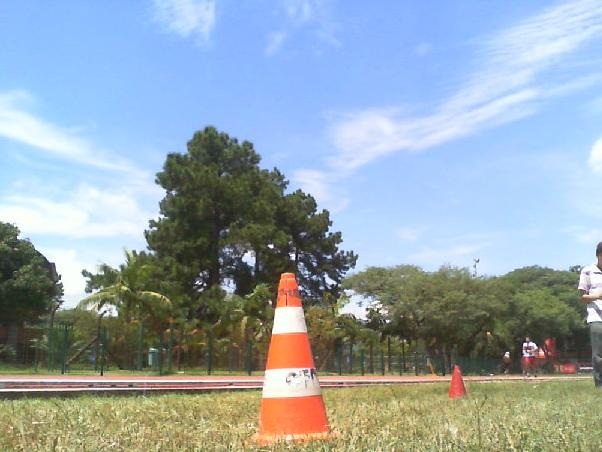0 cone: (250, 272, 336, 443), (449, 365, 469, 399)
